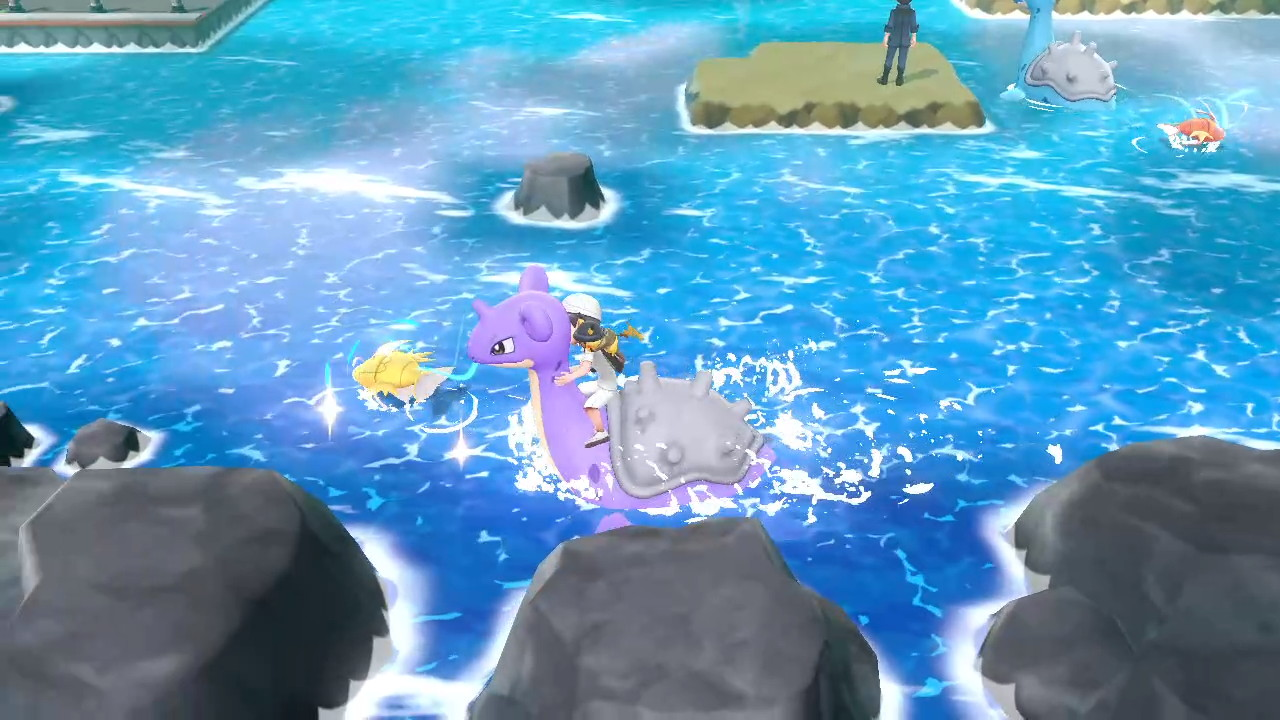Golden: (349, 339, 453, 407)
Red: (1161, 114, 1230, 152)
